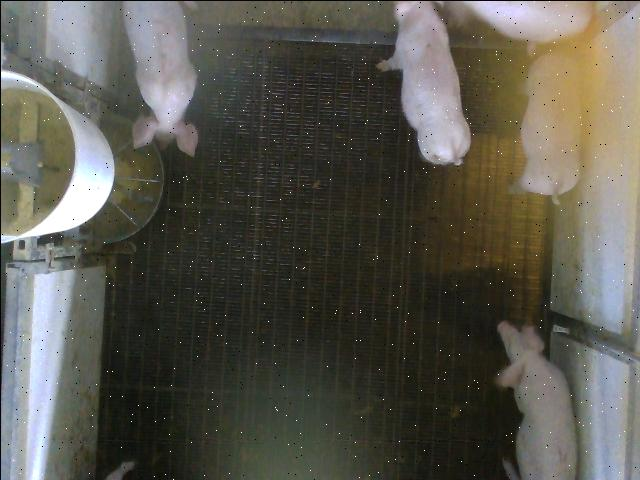pig-3: (122, 2, 196, 155)
pig-4: (518, 51, 579, 202)
